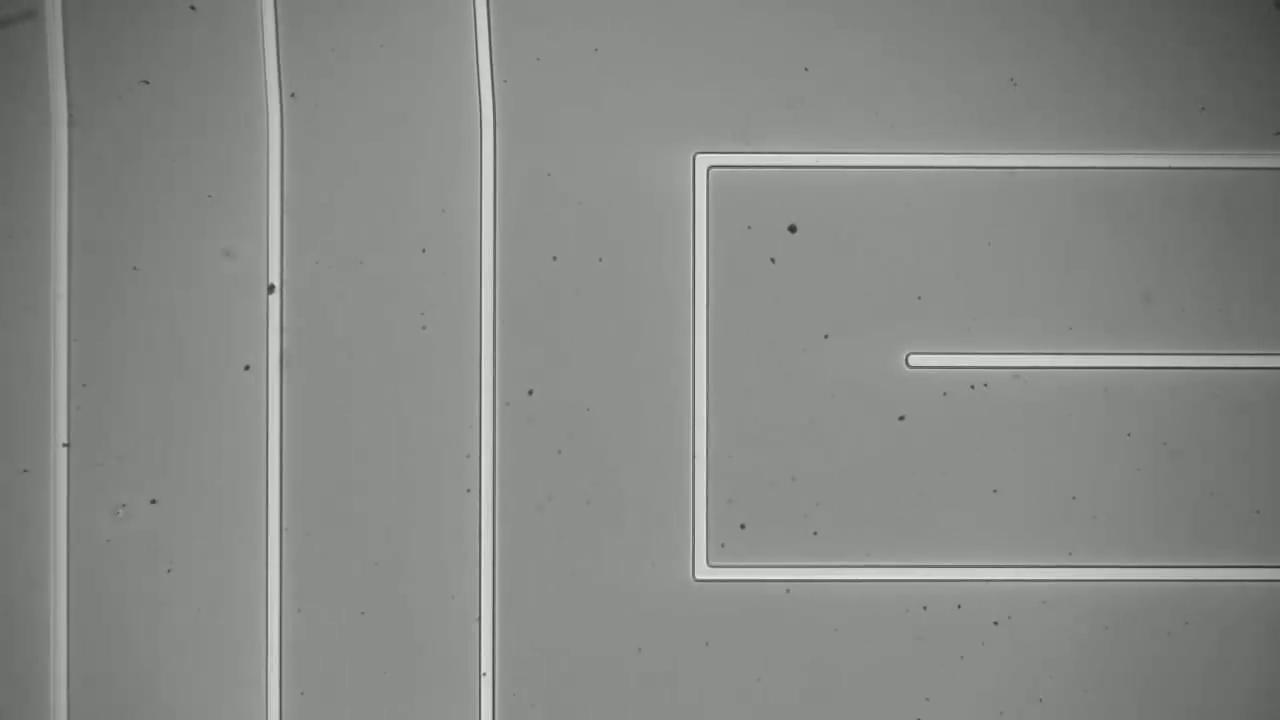stains_enbedded: (258, 273, 286, 297)
